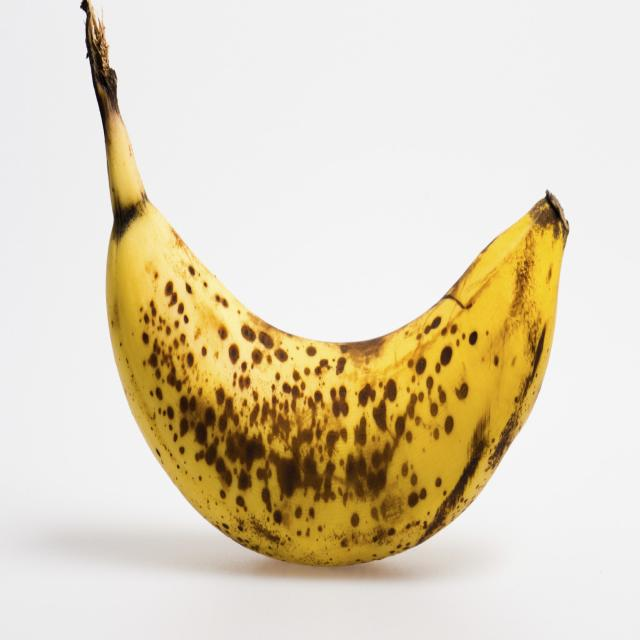Banana: (81, 2, 566, 568)
